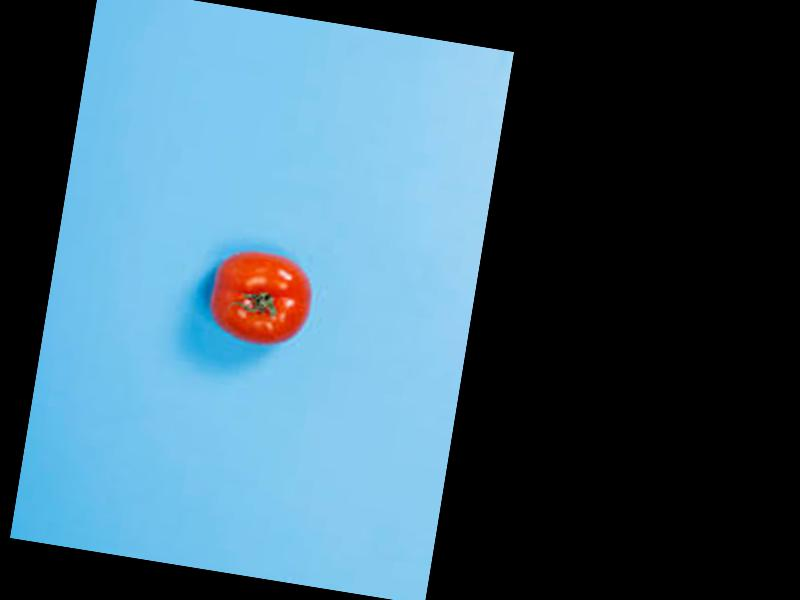Tomato: (204, 246, 319, 354)
